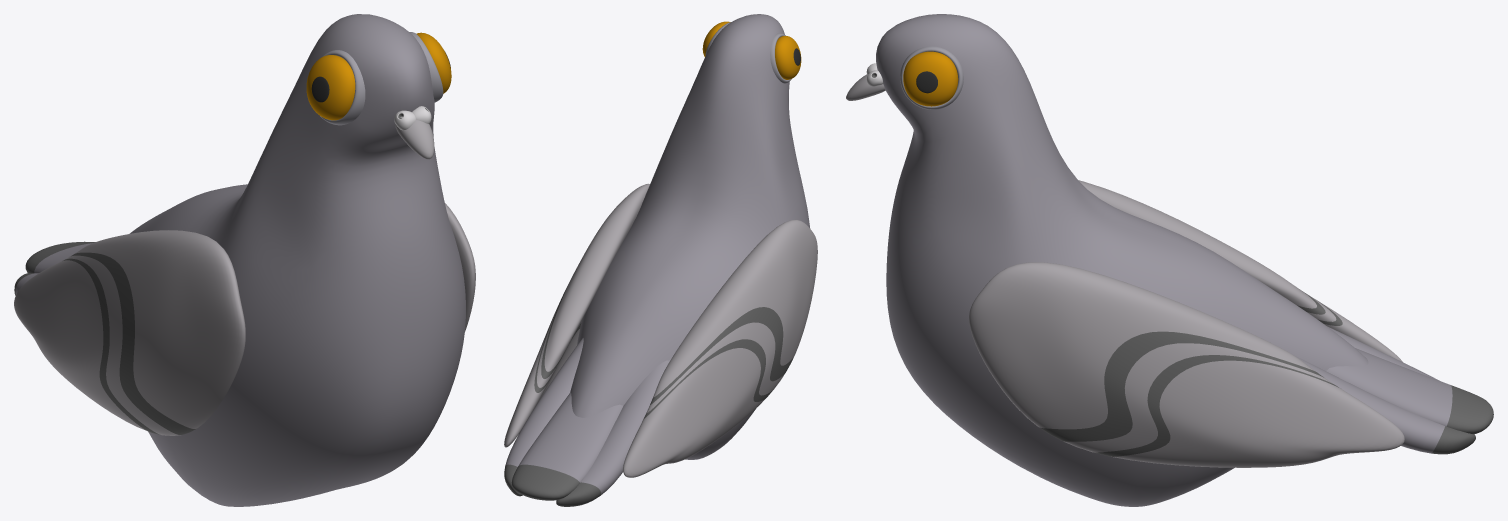
File: FlyingPigeon.glb
3 renders of one model, left to right at view 1: azimuth 30°, elevation 25°; view 2: azimuth 150°, elevation 25°; view 3: azimuth 270°, elevation 25°, orthographic. The views are drawn at different scales.
Parts seen in each view (by area): view 1: polySurface71, polySurface74, polySurface76, polySurface73, polySurface72, polySurface68, polySurface56, polySurface75, polySurface55.001, polySurface67; view 2: polySurface71, polySurface74, polySurface72, polySurface73, polySurface76; view 3: polySurface71, polySurface73, polySurface72, polySurface74, polySurface75, polySurface67.
Part boxes in pixels (x1=…): polySurface71: x1=129, y1=14, x2=465, y2=506; polySurface74: x1=14, y1=230, x2=245, y2=435; polySurface76: x1=306, y1=55, x2=355, y2=120; polySurface73: x1=445, y1=203, x2=475, y2=331; polySurface72: x1=14, y1=241, x2=95, y2=295; polySurface68: x1=320, y1=50, x2=365, y2=125; polySurface56: x1=395, y1=119, x2=434, y2=159; polySurface75: x1=416, y1=32, x2=451, y2=93; polySurface55.001: x1=394, y1=106, x2=431, y2=130; polySurface67: x1=409, y1=32, x2=443, y2=102; polySurface71: x1=570, y1=14, x2=810, y2=459; polySurface74: x1=623, y1=219, x2=817, y2=477; polySurface72: x1=504, y1=338, x2=669, y2=506; polySurface73: x1=504, y1=183, x2=649, y2=447; polySurface76: x1=775, y1=36, x2=801, y2=79; polySurface71: x1=876, y1=14, x2=1368, y2=506; polySurface73: x1=969, y1=262, x2=1404, y2=467; polySurface72: x1=1295, y1=326, x2=1493, y2=454; polySurface74: x1=1079, y1=180, x2=1402, y2=361; polySurface75: x1=903, y1=51, x2=958, y2=106; polySurface67: x1=900, y1=46, x2=963, y2=109.
Bounding box in the file's own units: 0.0424 × 0.0761 × 0.0951.
